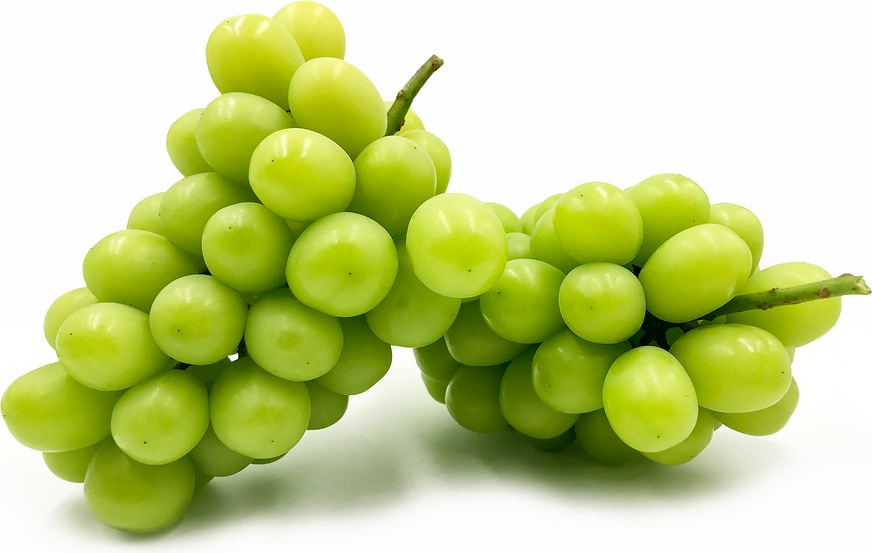Green grapes: (5, 5, 474, 549), (387, 149, 862, 490)
